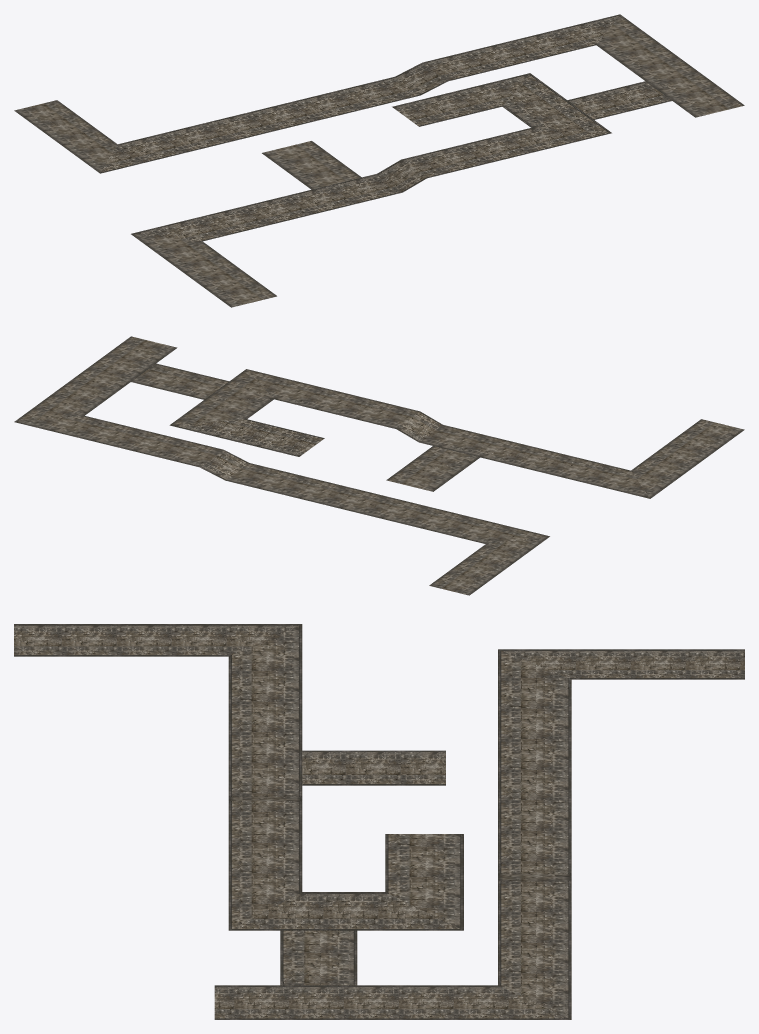
The model's file is Old_PhoenixCastle_Block_destruct_wall02.FBX.
The picture shows the model from 3 angles, top to bottom: view 1: azimuth 30°, elevation 25°; view 2: azimuth 150°, elevation 25°; view 3: azimuth 270°, elevation 25°; orthographic projection. The views are drawn at different scales.
Visible parts, largest first — view 1: Object007; view 2: Object007; view 3: Object007.
Part boxes in pixels (box(x1,y1,x2,y2)): Object007: box(14, 14, 744, 307); Object007: box(14, 336, 744, 595); Object007: box(14, 624, 744, 1019).
Size of the model in its own units: 9178 by 125 by 6953.
Materials: 1 (1 with a texture image).
